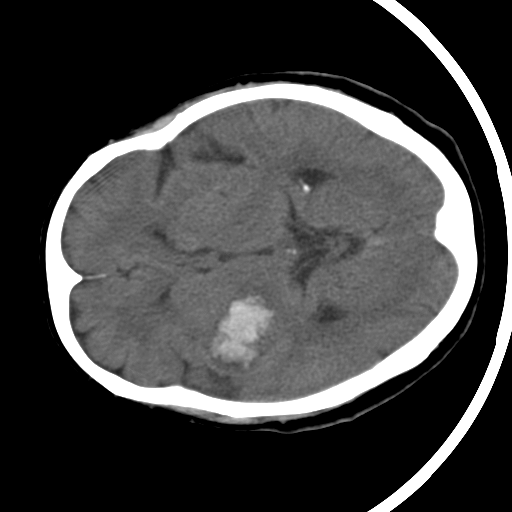a: (191, 272, 294, 381)
